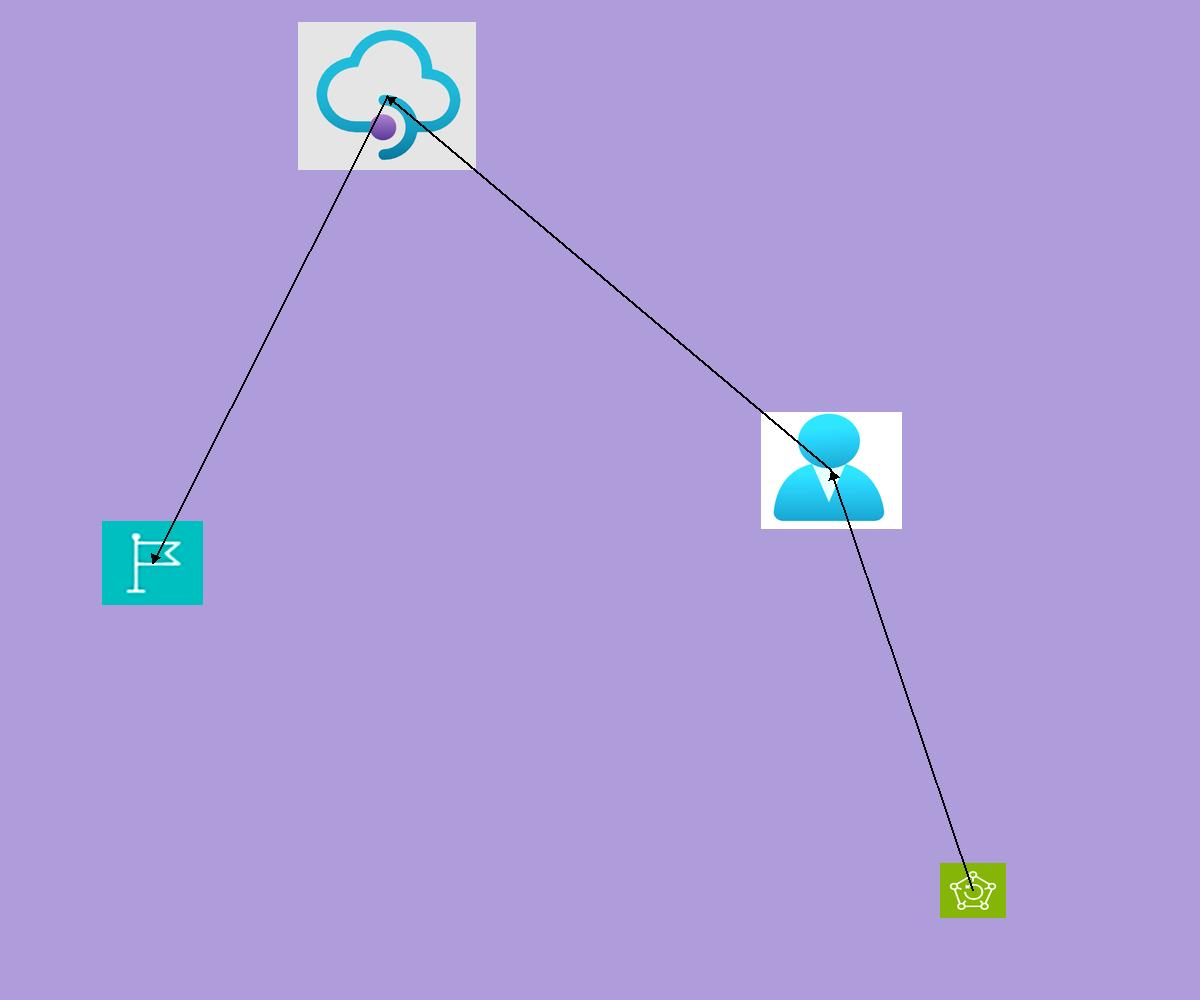AWS-Backup: (940, 863, 1006, 918)
AWS-Region: (102, 521, 203, 605)
Azure_api_gateway: (298, 22, 476, 170)
Azure_users: (761, 412, 902, 529)
